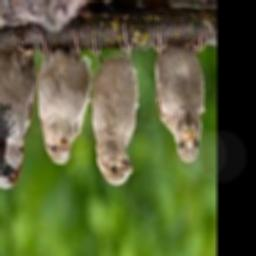Sparrow: (89, 26, 138, 186), (153, 27, 206, 163), (37, 38, 91, 165), (0, 37, 36, 191)
